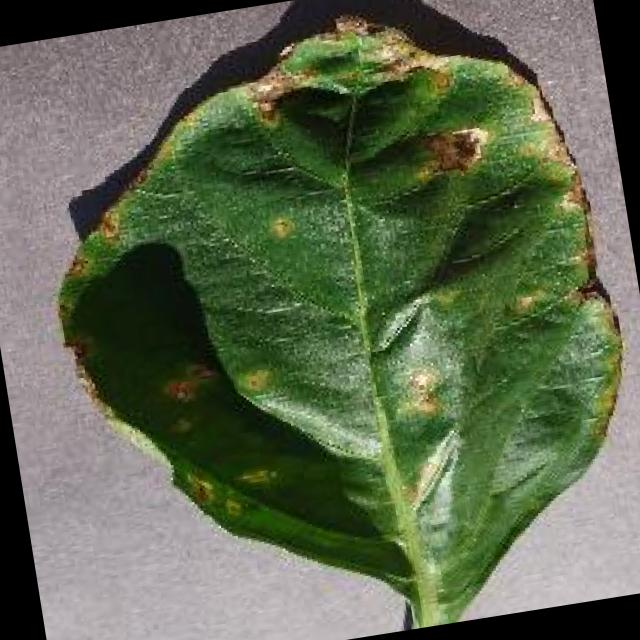Chilli_Bacterial_Spot: (14, 0, 640, 640), (414, 119, 494, 185), (386, 362, 452, 429), (156, 358, 220, 410), (226, 458, 284, 496), (327, 6, 374, 45), (159, 370, 202, 410), (234, 361, 278, 398), (180, 469, 218, 511), (90, 202, 126, 246), (260, 210, 300, 248), (248, 89, 284, 128)
